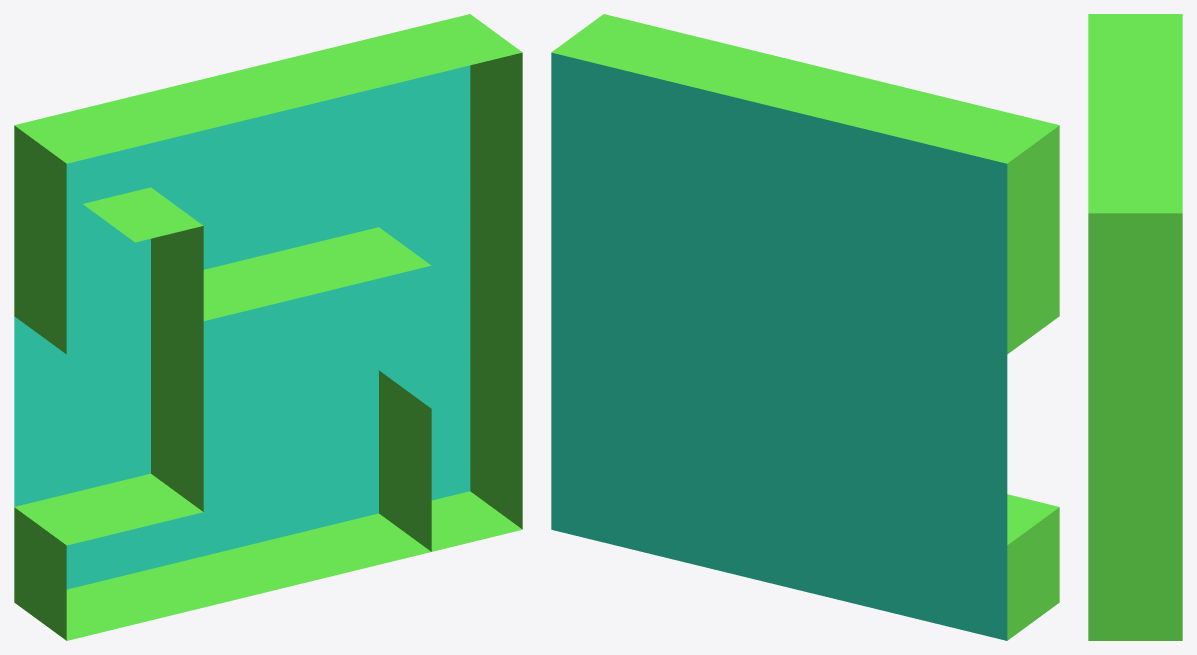
File: room1.gltf
The picture shows the model from 3 angles, left to right: view 1: azimuth 30°, elevation 25°; view 2: azimuth 150°, elevation 25°; view 3: azimuth 270°, elevation 25°; orthographic projection. The views are drawn at different scales.
Visible parts, largest first — view 1: Plane.000, Plane.003, Plane.002, Plane.001, Plane.004, Plane.028, Plane.008, Plane.006, Plane.009, Plane.045, Plane.034, Plane.005 (+3 smaller); view 2: Plane.000, Plane.002, Plane.004, Plane.005, Plane.036; view 3: Plane.003, Plane.002.
Part boxes in pixels (bbox=[...]): Plane.000: bbox=[14, 65, 470, 589]; Plane.003: bbox=[470, 52, 522, 529]; Plane.002: bbox=[14, 14, 522, 163]; Plane.001: bbox=[66, 491, 522, 640]; Plane.004: bbox=[14, 125, 66, 354]; Plane.028: bbox=[151, 270, 203, 511]; Plane.008: bbox=[379, 370, 431, 551]; Plane.006: bbox=[16, 473, 203, 544]; Plane.009: bbox=[151, 226, 203, 430]; Plane.045: bbox=[211, 227, 430, 318]; Plane.034: bbox=[203, 253, 381, 320]; Plane.005: bbox=[14, 507, 66, 640]; Plane.000: bbox=[551, 52, 1007, 640]; Plane.002: bbox=[551, 14, 1059, 163]; Plane.004: bbox=[1007, 125, 1059, 354]; Plane.005: bbox=[1007, 507, 1059, 640]; Plane.036: bbox=[1007, 503, 1059, 544]; Plane.003: bbox=[1088, 213, 1182, 640]; Plane.002: bbox=[1088, 14, 1182, 213].
Size of the model in its own units: 20 by 20 by 4.
Materials: 2 (2 with a texture image).
